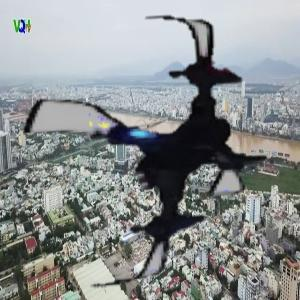drone: (1, 8, 287, 294)
